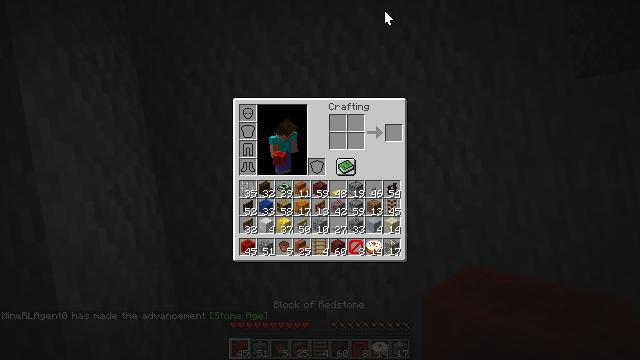cursor: (384, 10, 394, 26)
